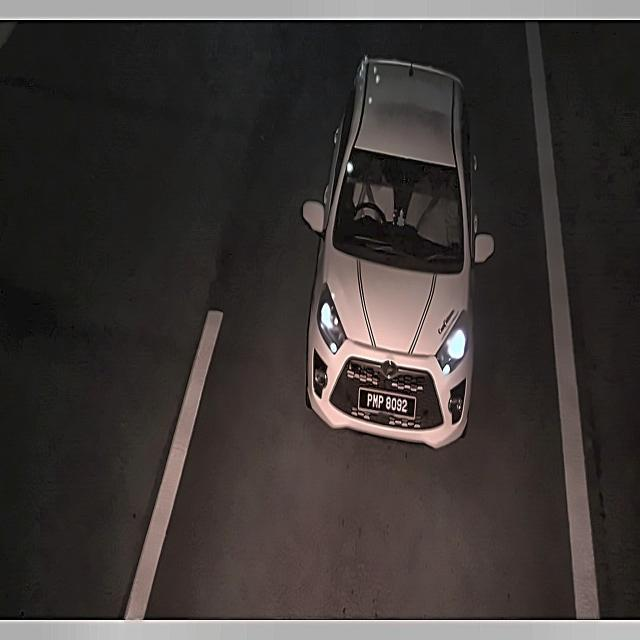car: (356, 382, 420, 424)
